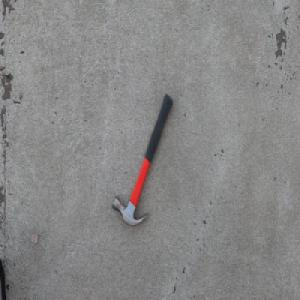Hammer: (111, 92, 173, 227)
